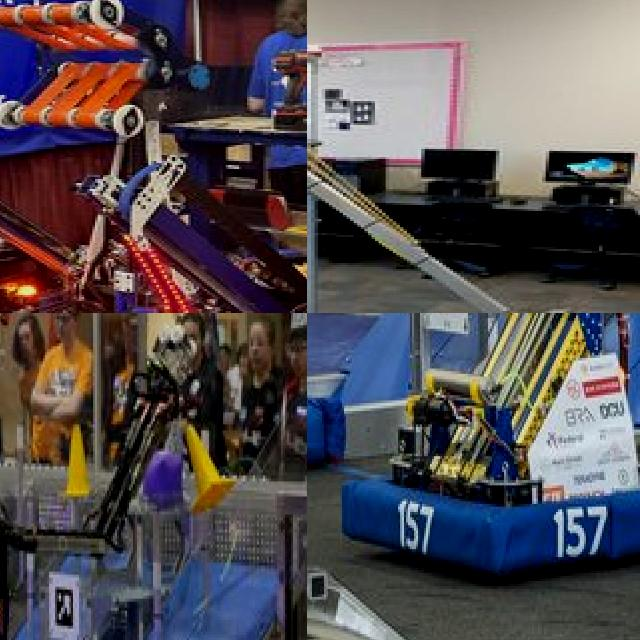FRC-Robots: (0, 0, 307, 313), (307, 33, 640, 313), (310, 313, 640, 590), (0, 345, 206, 640)
